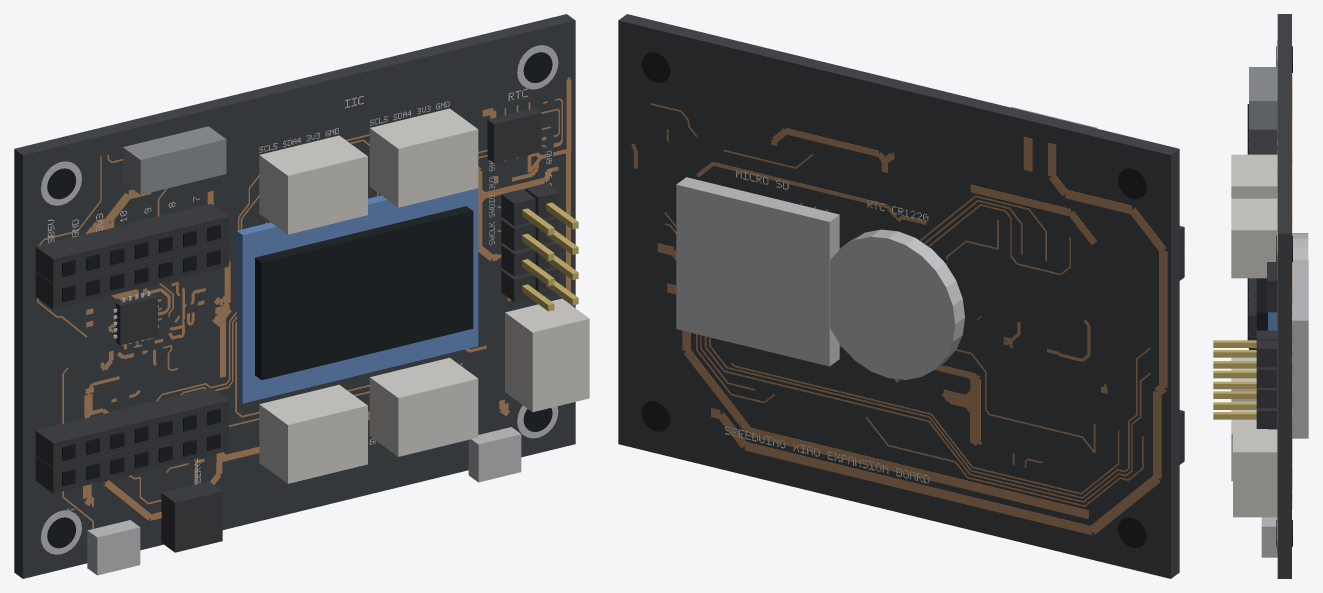
The model's file is seeed-xiao-expansion-base-103030356.glb.
The picture shows the model from 3 angles, left to right: view 1: azimuth 30°, elevation 25°; view 2: azimuth 150°, elevation 25°; view 3: azimuth 270°, elevation 25°; orthographic projection. The views are drawn at different scales.
Parts seen in each view (by area): view 1: body:pcb, component:oled:display, component:oled:pcb, copper:top:official-eagle-signal-routing, connector:grove-i2c-a:body, connector:grove-uart:body, connector:grove-a0-d0:body, connector:grove-i2c-b:body, connector:lipo-jst2:body, connector:xiao-lower-breakout:housing, connector:xiao-upper-interface:housing, component:power-switch (+15 smaller); view 2: body:pcb, copper:bottom:official-eagle-signal-routing, connector:microsd-slot:body, component:rtc-cr1220-holder, silkscreen:bottom:xiao:bottom:title:SEEEDUINO XIAO EXPANSION, mount:m3:bore, mount:m4:bore, mount:m2:bore, mount:m1:bore; view 3: body:pcb, connector:lipo-jst2:body, connector:grove-i2c-a:body, connector:microsd-slot:body, connector:grove-i2c-b:body, component:power-switch, connector:xiao-upper-interface:housing, component:user-button, connector:servo-swd-2x4:insulator:1:RST-or-5V, component:oled:display, component:rtc-pcf8563, connector:grove-uart:body (+18 smaller).
Part boxes in pixels (x1,y1,x2,y2): body:pcb: (14, 14, 575, 578); component:oled:display: (255, 206, 473, 380); component:oled:pcb: (236, 188, 478, 403); copper:top:official-eagle-signal-routing: (37, 77, 571, 529); connector:grove-i2c-a:body: (369, 108, 478, 207); connector:grove-uart:body: (369, 357, 478, 456); connector:grove-a0-d0:body: (259, 384, 367, 483); connector:grove-i2c-b:body: (259, 135, 367, 234); connector:lipo-jst2:body: (505, 298, 589, 412); connector:xiao-lower-breakout:housing: (35, 388, 228, 468); connector:xiao-upper-interface:housing: (35, 203, 228, 283); component:power-switch: (123, 126, 226, 194); body:pcb: (618, 14, 1179, 578); copper:bottom:official-eagle-signal-routing: (631, 103, 1167, 534); connector:microsd-slot:body: (676, 177, 839, 366); component:rtc-cr1220-holder: (830, 229, 964, 379); silkscreen:bottom:xiao:bottom:title:SEEEDUINO XIAO EXPANSION: (725, 426, 929, 483); mount:m3:bore: (641, 400, 670, 431); mount:m4:bore: (1118, 517, 1146, 547); mount:m2:bore: (641, 52, 670, 82); mount:m1:bore: (1118, 168, 1146, 198); body:pcb: (1277, 14, 1291, 578); connector:lipo-jst2:body: (1233, 429, 1277, 517); connector:grove-i2c-a:body: (1231, 198, 1277, 278); connector:microsd-slot:body: (1292, 259, 1308, 438); connector:grove-i2c-b:body: (1231, 154, 1277, 198); component:power-switch: (1249, 67, 1277, 129); connector:xiao-upper-interface:housing: (1249, 129, 1277, 154); component:user-button: (1261, 517, 1277, 557); connector:servo-swd-2x4:insulator:1:RST-or-5V: (1256, 340, 1277, 367); component:oled:display: (1256, 278, 1267, 330); component:rtc-pcf8563: (1267, 262, 1277, 312); connector:grove-uart:body: (1231, 401, 1267, 481).
Size of the model in its own units: 0.058 by 0.043 by 0.0106.
